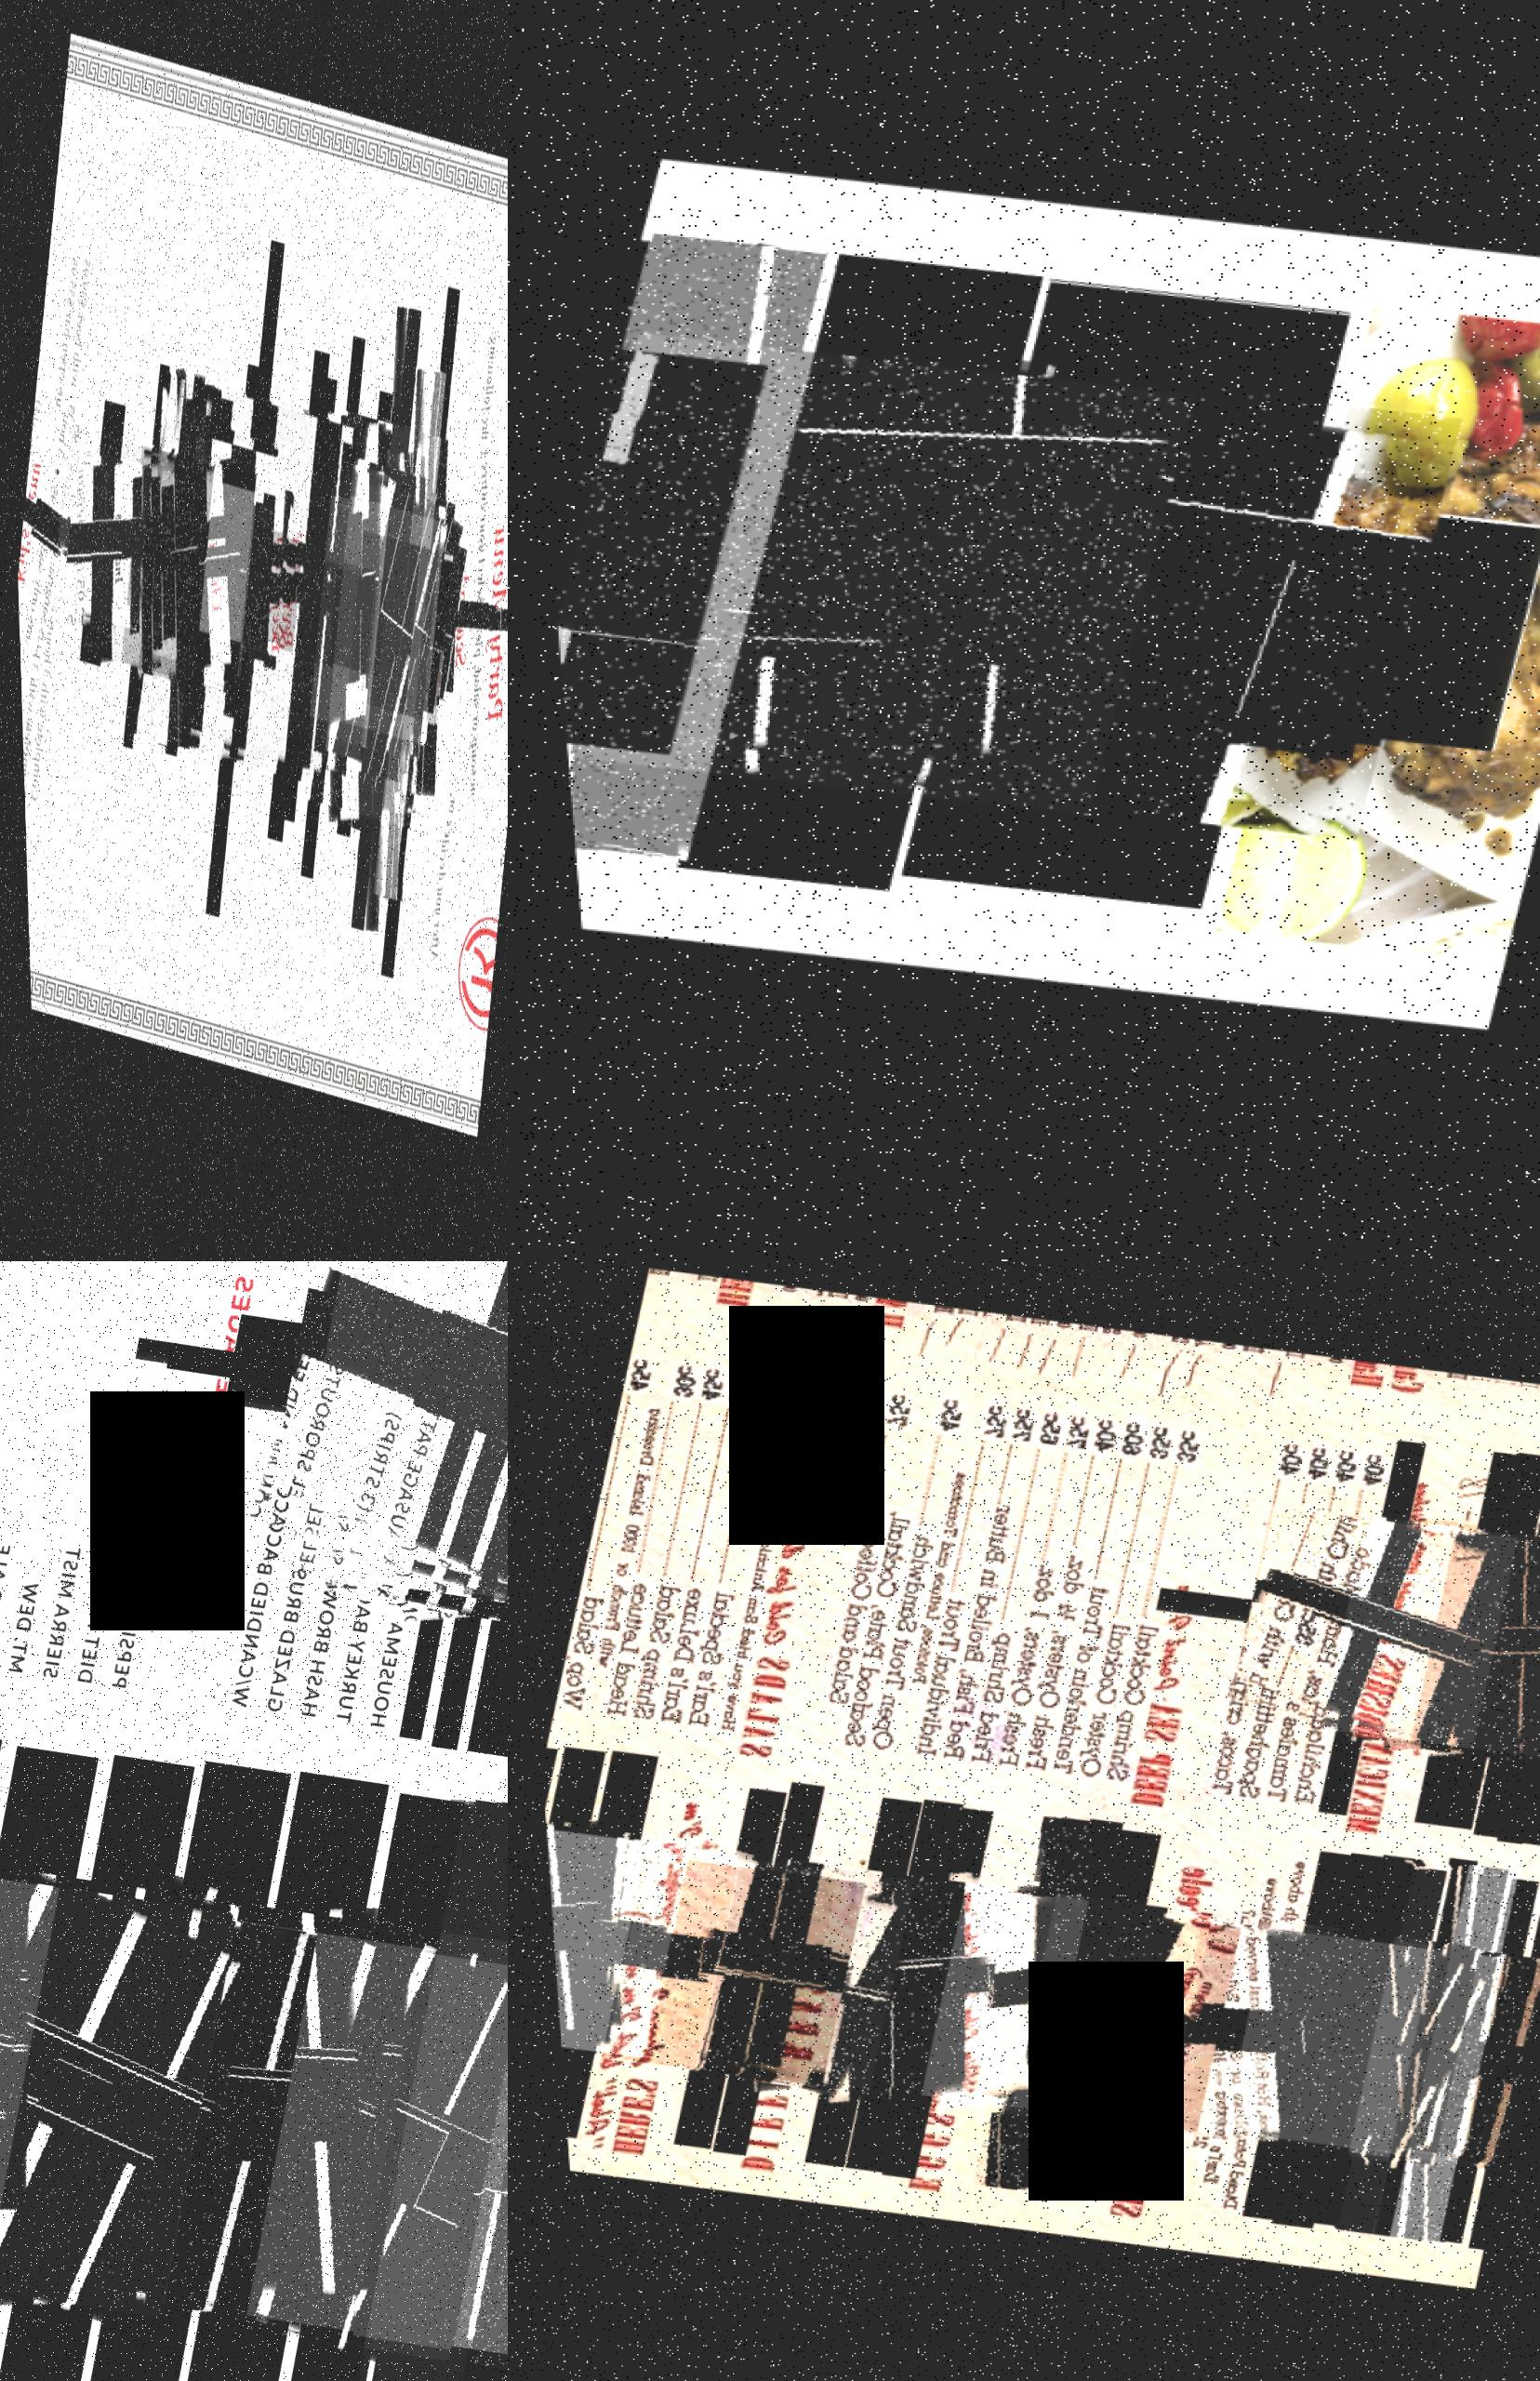Menu-Items: (741, 323, 1478, 882), (529, 302, 1210, 850), (0, 1862, 508, 2381), (0, 1848, 428, 2381), (522, 222, 867, 866), (108, 1904, 508, 2381), (0, 1857, 316, 2360), (281, 1808, 508, 2381), (0, 1829, 232, 2358), (118, 347, 361, 823), (222, 1262, 508, 1664), (284, 392, 508, 901), (269, 1930, 508, 2381), (250, 1262, 508, 1678), (248, 1262, 468, 1744), (281, 1262, 499, 1746), (215, 1262, 434, 1737), (531, 340, 777, 760), (288, 1262, 508, 1716), (314, 1262, 508, 1755), (727, 1845, 1054, 2136), (690, 1841, 1013, 2131), (1157, 1909, 1479, 2197), (763, 1855, 1086, 2143), (598, 1829, 916, 2112), (895, 1873, 1210, 2154), (1127, 1909, 1441, 2188), (1207, 1503, 1519, 1781), (225, 418, 428, 817), (1198, 1921, 1498, 2188), (940, 1888, 1240, 2155), (569, 1840, 864, 2102), (323, 316, 444, 948), (1261, 1930, 1540, 2192), (198, 418, 390, 793), (775, 1383, 961, 1765), (864, 1385, 1037, 1772), (1353, 1876, 1526, 2261), (1301, 1515, 1540, 1793), (935, 1820, 1106, 2201), (1297, 1871, 1460, 2249), (1171, 1433, 1330, 1817), (1325, 1517, 1540, 1800), (1226, 1444, 1384, 1827), (834, 1385, 989, 1767), (1259, 1451, 1413, 1829), (219, 441, 392, 777), (1204, 1440, 1356, 1820), (1016, 1413, 1169, 1789), (962, 1409, 1113, 1789), (1073, 1427, 1224, 1801), (274, 460, 444, 791), (990, 1413, 1143, 1781), (1318, 1944, 1540, 2195), (916, 1400, 1063, 1770), (938, 1409, 1084, 1781), (354, 378, 454, 915), (1044, 1421, 1190, 1791), (538, 1812, 739, 2076), (1356, 1534, 1540, 1801), (194, 1378, 317, 1737), (297, 484, 446, 776), (68, 415, 215, 705), (1360, 1958, 1540, 2192), (111, 429, 257, 713), (1389, 1548, 1540, 1796), (538, 1815, 687, 2063), (134, 366, 219, 757), (168, 425, 295, 675), (135, 456, 257, 694), (538, 1812, 649, 2062), (336, 529, 449, 750), (43, 429, 153, 640), (1483, 1491, 1540, 1867), (9, 380, 85, 656), (286, 455, 350, 771), (1500, 1489, 1540, 1862), (225, 521, 300, 665), (305, 559, 373, 692), (217, 526, 284, 658), (118, 496, 186, 628), (319, 569, 383, 694), (395, 585, 460, 708), (144, 486, 182, 647), (102, 498, 158, 607)
